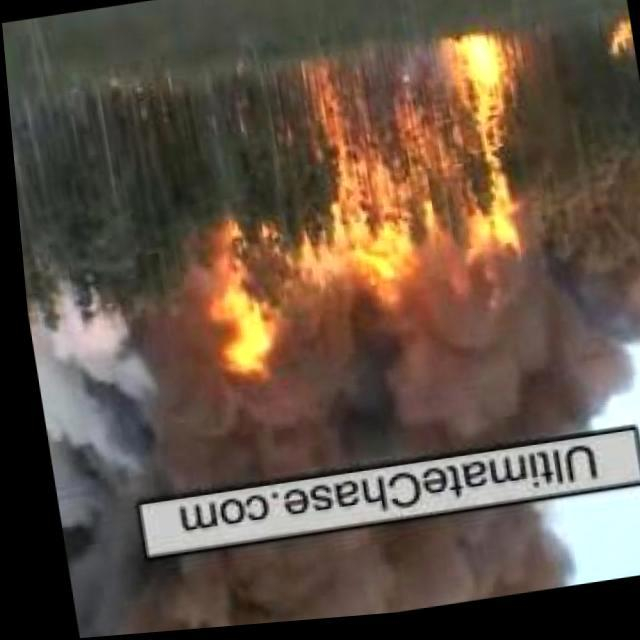fire: (296, 26, 544, 302), (188, 228, 270, 396), (594, 27, 634, 73)
